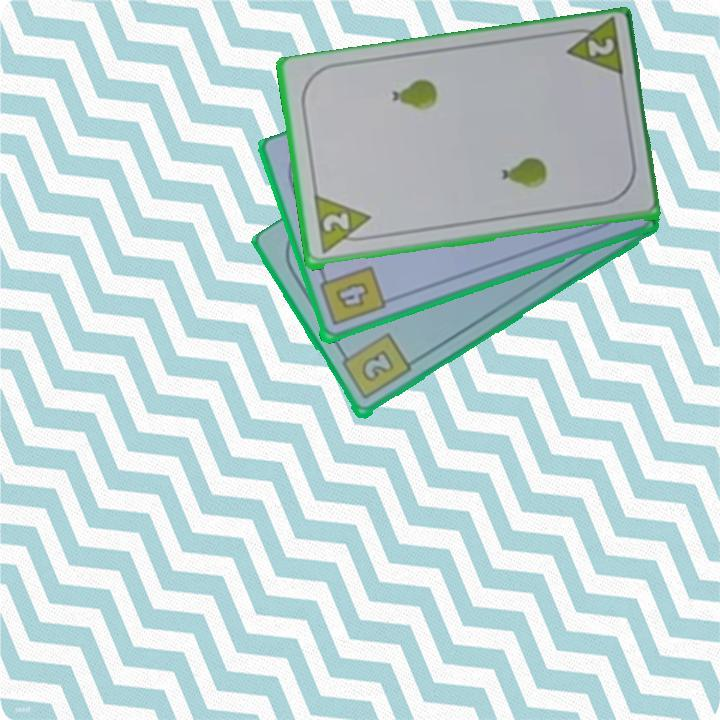2b: (336, 330, 414, 403)
2p: (558, 17, 626, 83), (310, 194, 376, 259)
4b: (316, 263, 388, 330)
